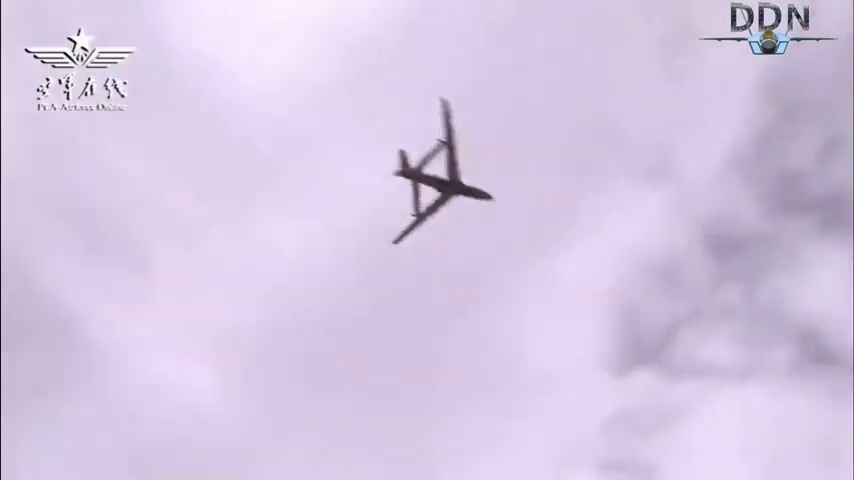military drone: (391, 96, 495, 244)
